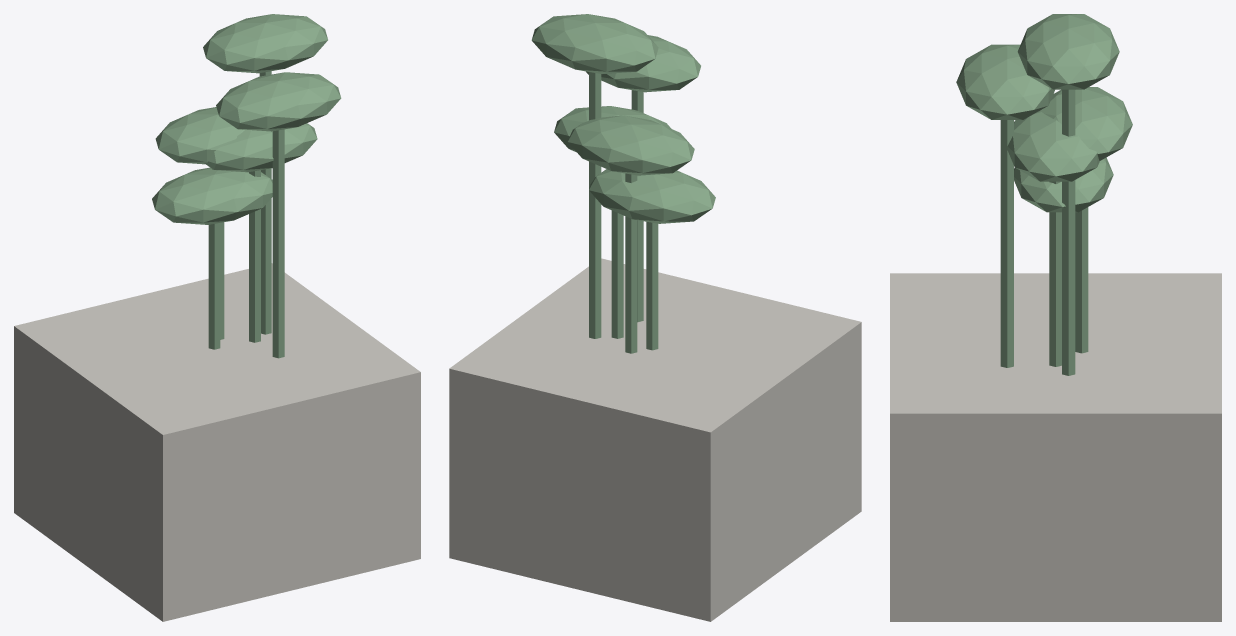
The model's file is planter_01.glb.
3 renders of one model, left to right at view 1: azimuth 30°, elevation 25°; view 2: azimuth 150°, elevation 25°; view 3: azimuth 270°, elevation 25°, orthographic. The views are drawn at different scales.
Visible parts, largest first — view 1: pot, leaf2, leaf3, leaf0, leaf1, leaf4, stem2, stem4, stem0, stem3, stem1; view 2: pot, leaf3, leaf1, leaf0, leaf2, stem3, stem1, stem0, stem4, leaf4, stem2; view 3: pot, leaf3, leaf2, leaf4, leaf1, stem3, stem2, leaf0, stem4, stem1.
Boxes of the visible parts, left/top/right/bottom form: pot: left=14, top=263, right=420, bottom=621; leaf2: left=216, top=72, right=341, bottom=131; leaf3: left=203, top=14, right=327, bottom=73; leaf0: left=152, top=167, right=272, bottom=224; leaf1: left=155, top=107, right=244, bottom=164; leaf4: left=204, top=123, right=317, bottom=172; stem2: left=272, top=129, right=284, bottom=358; stem4: left=249, top=170, right=260, bottom=342; stem0: left=208, top=223, right=220, bottom=349; stem3: left=259, top=71, right=271, bottom=334; stem1: left=212, top=169, right=224, bottom=339; pot: left=449, top=258, right=861, bottom=621; leaf3: left=531, top=14, right=658, bottom=73; leaf1: left=567, top=115, right=694, bottom=175; leaf0: left=589, top=169, right=715, bottom=223; leaf2: left=586, top=35, right=700, bottom=92; stem3: left=589, top=72, right=601, bottom=338; stem1: left=625, top=173, right=637, bottom=353; stem0: left=646, top=221, right=658, bottom=350; stem4: left=611, top=210, right=623, bottom=338; leaf4: left=554, top=106, right=671, bottom=152; stem2: left=631, top=90, right=643, bottom=322; pot: left=890, top=273, right=1221, bottom=621; leaf3: left=1017, top=14, right=1119, bottom=89; leaf2: left=956, top=44, right=1054, bottom=119; leaf4: left=1007, top=111, right=1099, bottom=181; leaf1: left=1039, top=87, right=1132, bottom=160; stem3: left=1062, top=89, right=1075, bottom=375; stem2: left=1000, top=120, right=1013, bottom=367; leaf0: left=1014, top=157, right=1113, bottom=212; stem4: left=1049, top=181, right=1061, bottom=366; stem1: left=1075, top=207, right=1088, bottom=353.
Size of the model in its own units: 0.65 by 1.19 by 0.65.
